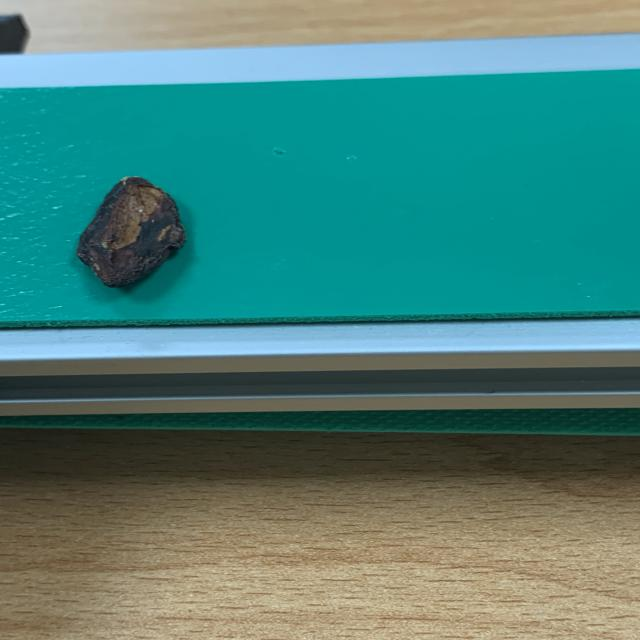Flat_cocoabeans: (0, 150, 285, 328)
